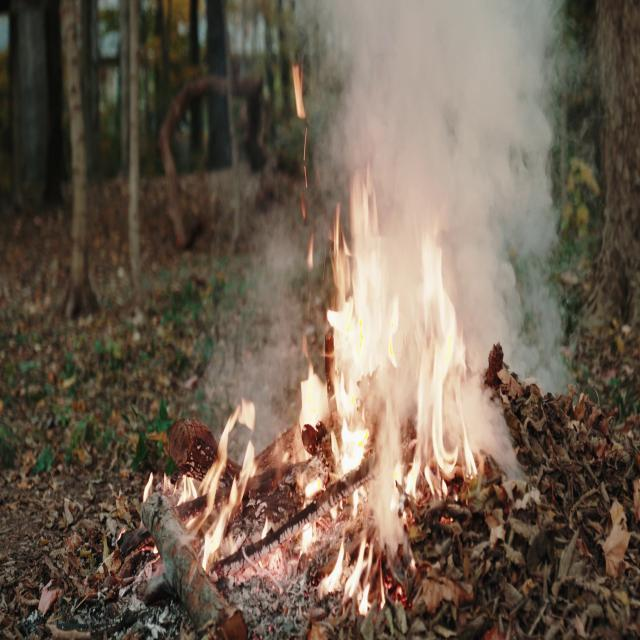Fire: (138, 264, 544, 602)
Smoke: (270, 0, 583, 379)
